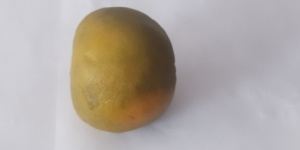BAD: (69, 5, 180, 135)
